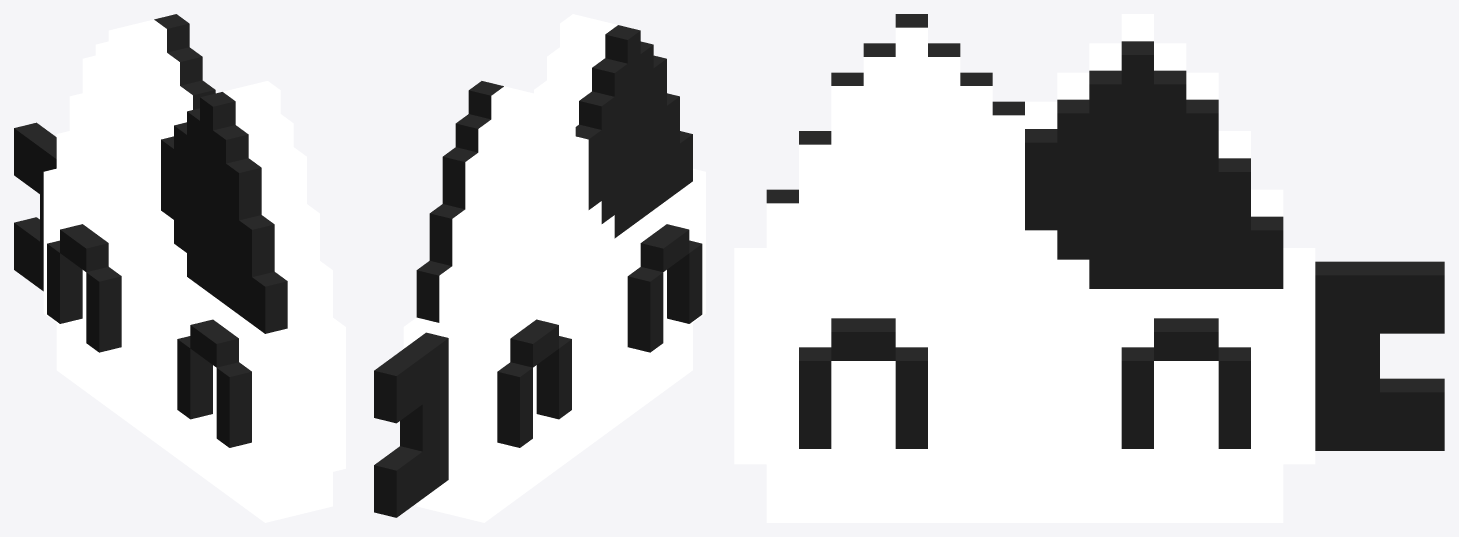
Rendered from catCafeSign.glb.
3 views of the same model, side by side, from view 1: azimuth 30°, elevation 25°; view 2: azimuth 150°, elevation 25°; view 3: azimuth 270°, elevation 25° (orthographic). The views are drawn at different scales.
Parts seen in each view (by area): view 1: ObjObject; view 2: ObjObject; view 3: ObjObject.
Part boxes in pixels (x1=…): ObjObject: x1=14, y1=14, x2=345, y2=522; ObjObject: x1=374, y1=14, x2=705, y2=522; ObjObject: x1=734, y1=14, x2=1444, y2=522.
Size of the model in its own units: 0.5 by 1.6 by 2.2.
Materials: 2 (1 with a texture image).
